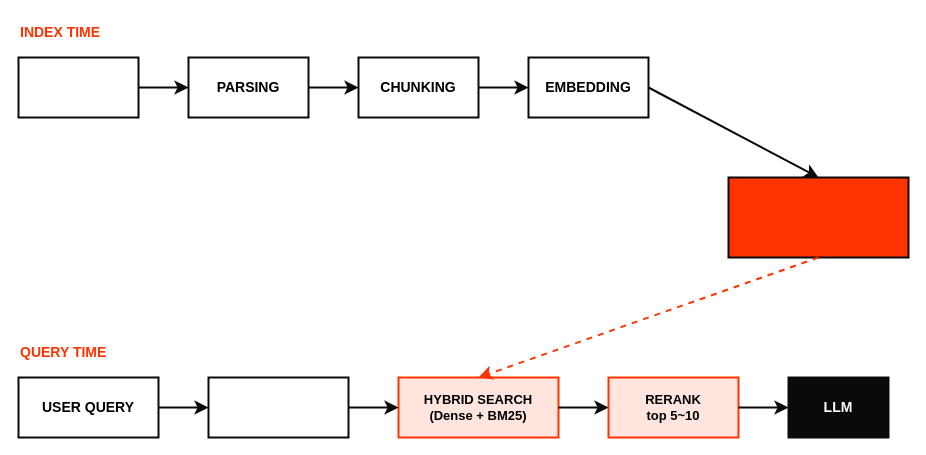
This 926x455 diagram has some shape labels left out. The shapes that lost their labels are listed below. From the top down, each one's centre as x and y in pixels, then its label:
At (x=78, y=87): "DOCS".
At (x=818, y=217): "VECTOR DB + BM25 INDEX".
At (x=278, y=407): "REWRITE / EMBEDDING".
